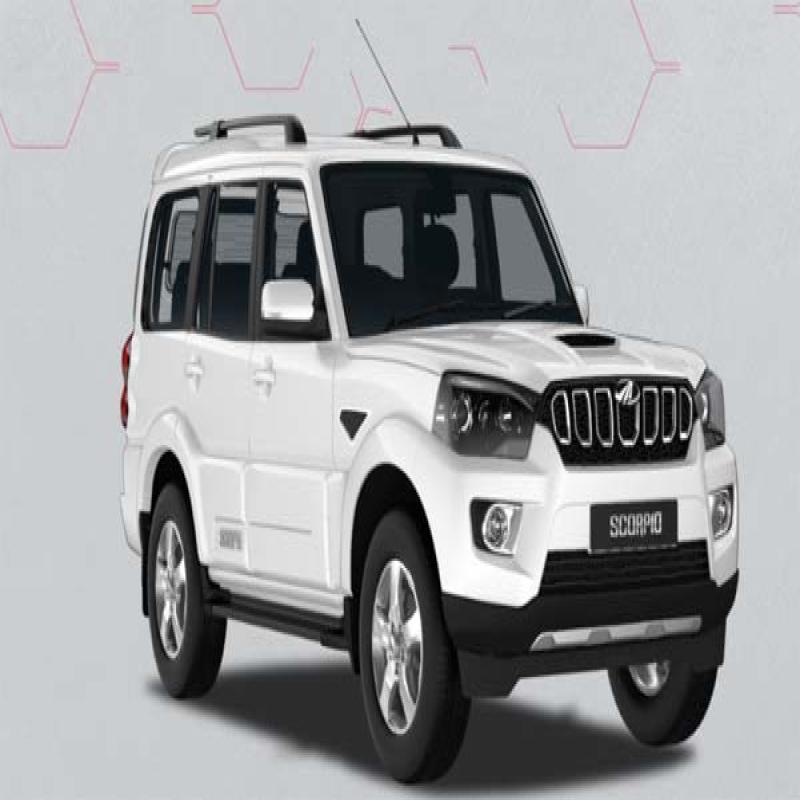car: (121, 105, 729, 769)
